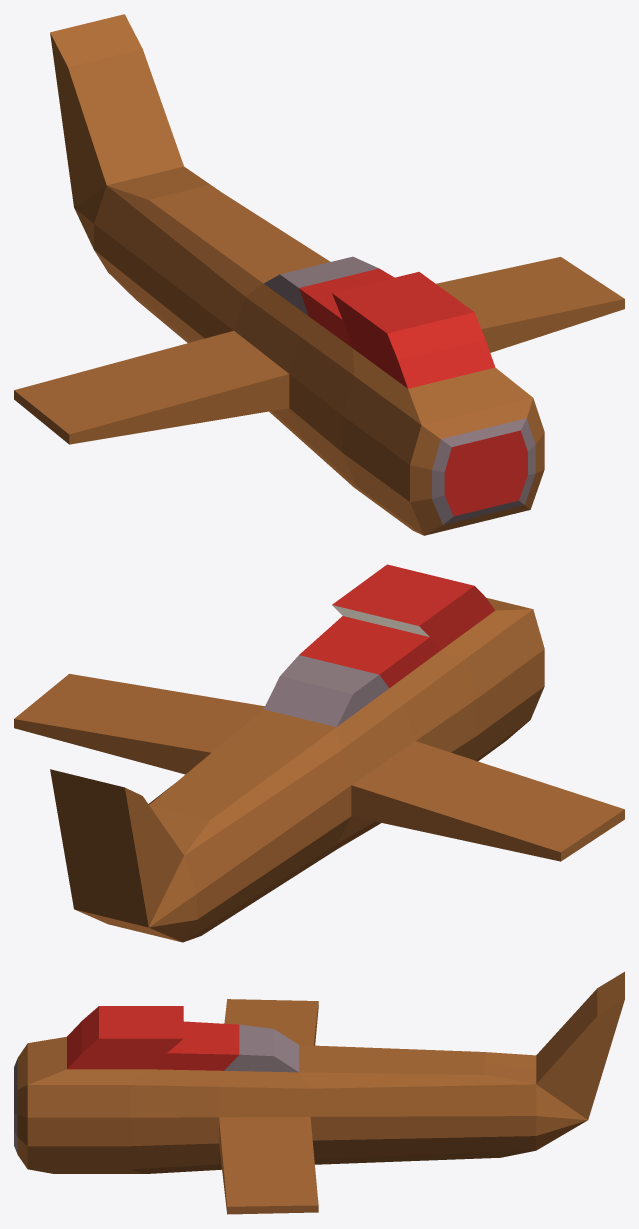
The model's file is PlaneModel01.fbx.
The picture shows the model from 3 angles, top to bottom: view 1: azimuth 30°, elevation 25°; view 2: azimuth 150°, elevation 25°; view 3: azimuth 270°, elevation 25°; orthographic projection. The views are drawn at different scales.
Visible parts, largest first — view 1: Cube.001; view 2: Cube.001; view 3: Cube.001.
Boxes of the visible parts, left/top/right/bottom form: Cube.001: left=14, top=14, right=624, bottom=535; Cube.001: left=14, top=564, right=624, bottom=942; Cube.001: left=14, top=971, right=624, bottom=1214.
Bounding box in the file's own units: 1044 × 401 × 1298.
